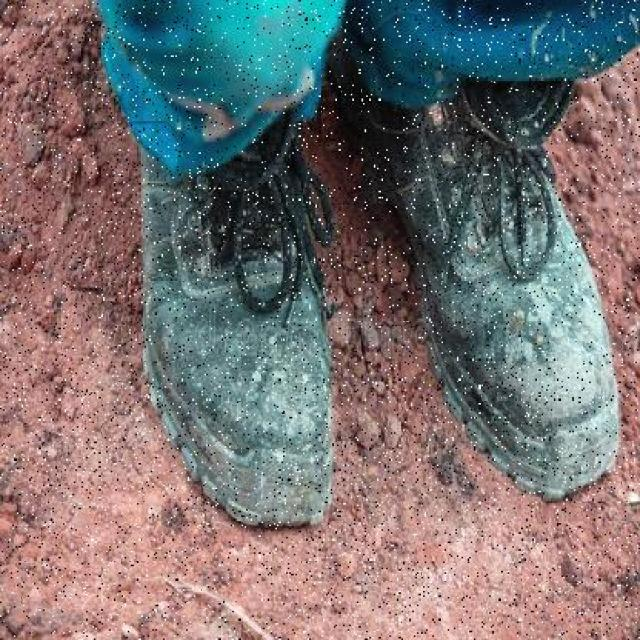shoes: (333, 39, 627, 492), (132, 124, 340, 542)
